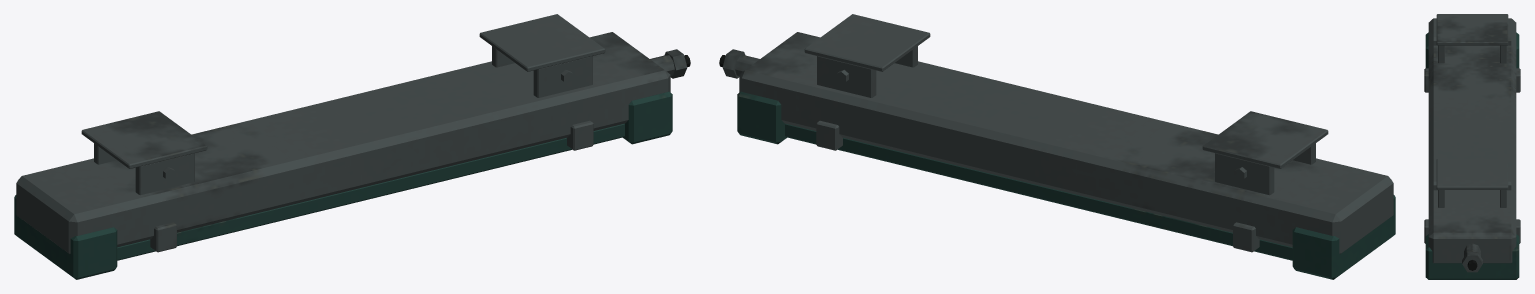
File: ceiling_strip_light.glb
3 renders of one model, left to right at view 1: azimuth 30°, elevation 25°; view 2: azimuth 150°, elevation 25°; view 3: azimuth 270°, elevation 25°, orthographic. The views are drawn at different scales.
Visible parts, largest first — view 1: ceiling_strip_light; view 2: ceiling_strip_light; view 3: ceiling_strip_light.
Part boxes in pixels (x1,y1,x2,y2): ceiling_strip_light: (14,14,690,279); ceiling_strip_light: (719,14,1395,279); ceiling_strip_light: (1424,14,1520,279).
Bounding box in the file's own units: 1.39 × 0.204 × 0.242.
Materials: 2 (1 with a texture image).
